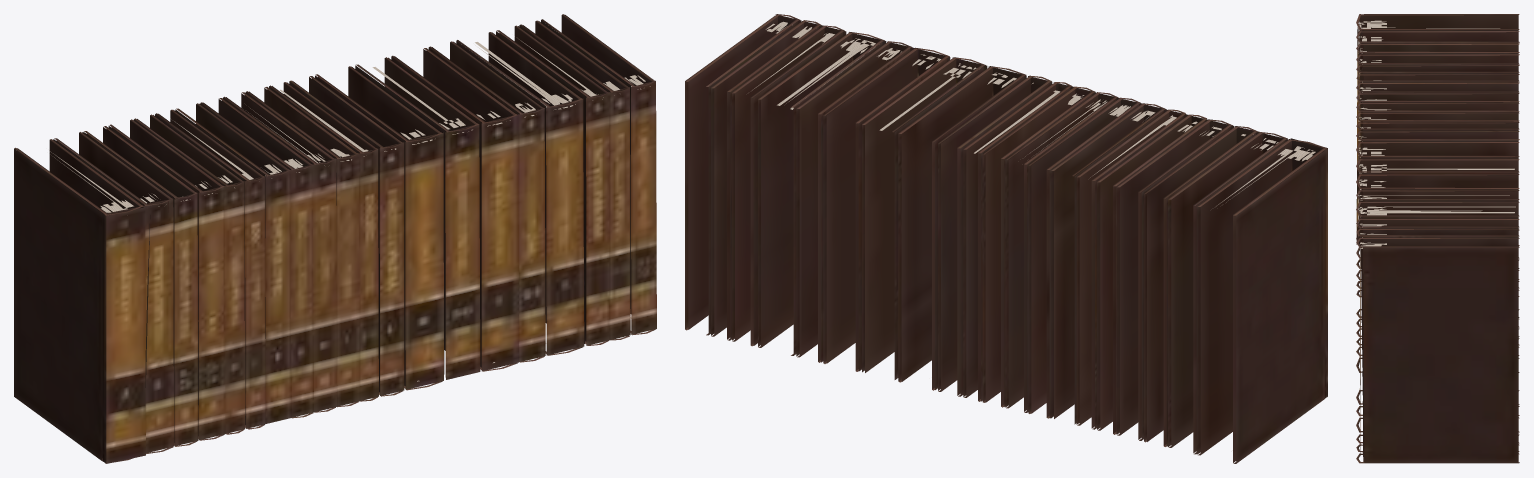
Rendered from books_lo.glb.
The picture shows the model from 3 angles, left to right: view 1: azimuth 30°, elevation 25°; view 2: azimuth 150°, elevation 25°; view 3: azimuth 270°, elevation 25°; orthographic projection. The views are drawn at different scales.
Visible parts, largest first — view 1: book_encyclopedia_set_01_book01; view 2: book_encyclopedia_set_01_book01; view 3: book_encyclopedia_set_01_book01.
Part boxes in pixels (x1,y1,x2,y2): book_encyclopedia_set_01_book01: (14, 14, 656, 463); book_encyclopedia_set_01_book01: (685, 14, 1327, 463); book_encyclopedia_set_01_book01: (1356, 14, 1519, 463).
Bounding box in the file's own units: 0.5525 × 0.2374 × 0.1634.
Materials: 2 (2 with a texture image).
